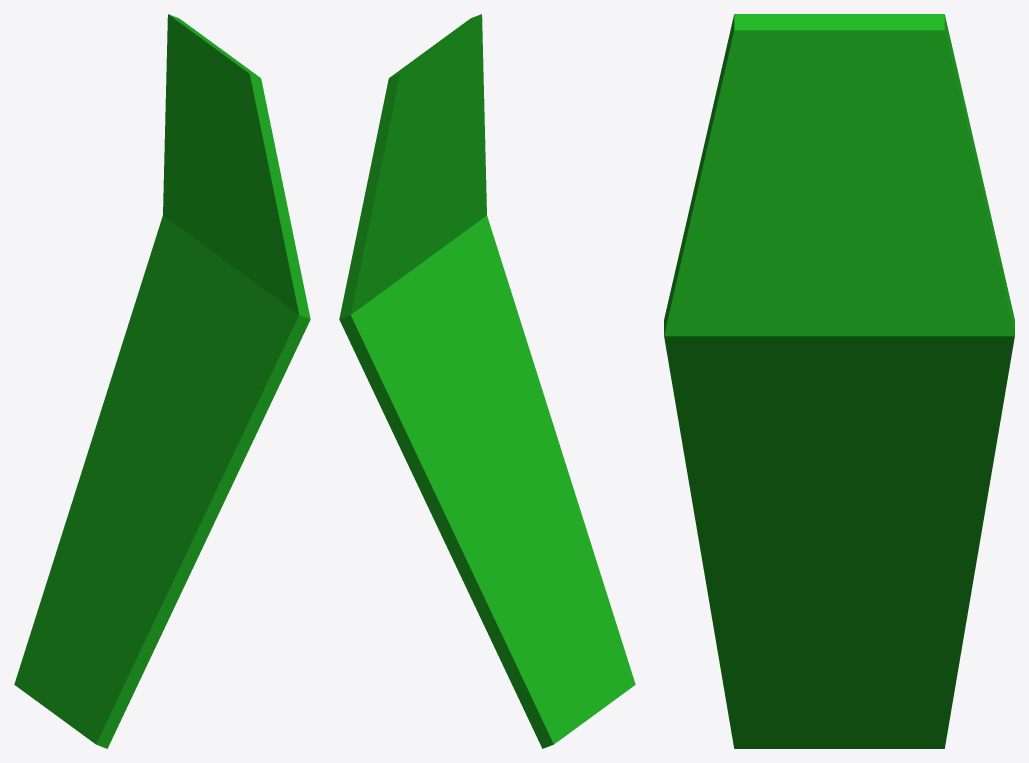
The model's file is lettuceLeafCollider.obj.
The picture shows the model from 3 angles, left to right: view 1: azimuth 30°, elevation 25°; view 2: azimuth 150°, elevation 25°; view 3: azimuth 270°, elevation 25°; orthographic projection. The views are drawn at different scales.
Visible parts, largest first — view 1: cabbage.001, cabbage.002; view 2: cabbage.001, cabbage.002; view 3: cabbage.001, cabbage.002.
Part boxes in pixels (left/top/right/bottom): cabbage.001: left=14, top=215, right=310, bottom=748; cabbage.002: left=163, top=14, right=310, bottom=319; cabbage.001: left=339, top=215, right=635, bottom=748; cabbage.002: left=339, top=14, right=486, bottom=319; cabbage.001: left=664, top=336, right=1014, bottom=748; cabbage.002: left=664, top=14, right=1014, bottom=336.
Size of the model in its own units: 0.0595 by 0.1944 by 0.075.
